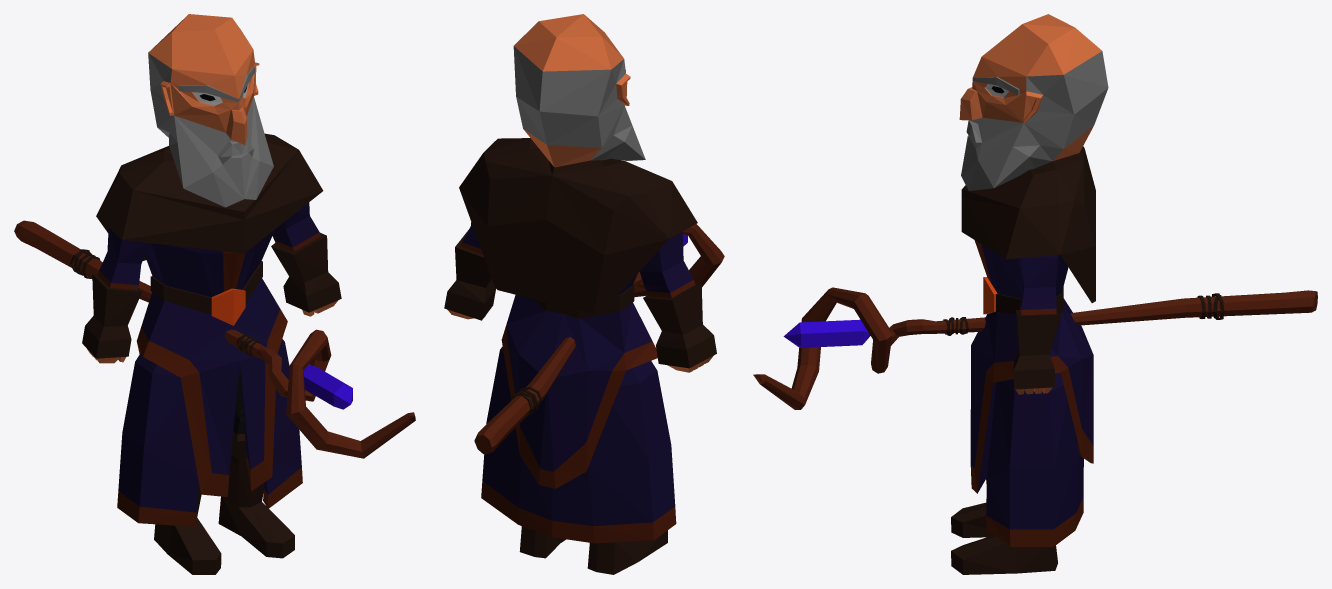
The model's file is wizard.dae.
3 renders of one model, left to right at view 1: azimuth 30°, elevation 25°; view 2: azimuth 150°, elevation 25°; view 3: azimuth 270°, elevation 25°, orthographic. The views are drawn at different scales.
Visible parts, largest first — view 1: Cube-001, Cube-002, Cylinder-001, Cube; view 2: Cube-001, Cube-002, Cylinder-001, Cube; view 3: Cube-001, Cube-002, Cylinder-001, Cube.
Boxes of the visible parts, left/top/right/bottom form: Cube-001: left=82, top=202, right=341, bottom=526; Cube-002: left=96, top=14, right=323, bottom=260; Cylinder-001: left=14, top=220, right=415, bottom=458; Cube: left=154, top=361, right=294, bottom=574; Cube-001: left=444, top=222, right=716, bottom=543; Cube-002: left=459, top=14, right=697, bottom=313; Cylinder-001: left=474, top=224, right=724, bottom=454; Cube: left=519, top=526, right=667, bottom=574; Cube-001: left=970, top=240, right=1093, bottom=546; Cube-002: left=959, top=14, right=1108, bottom=302; Cylinder-001: left=753, top=287, right=1317, bottom=409; Cube: left=951, top=502, right=1057, bottom=574.
Bounding box in the file's own units: 1.02 × 2.03 × 1.98.
